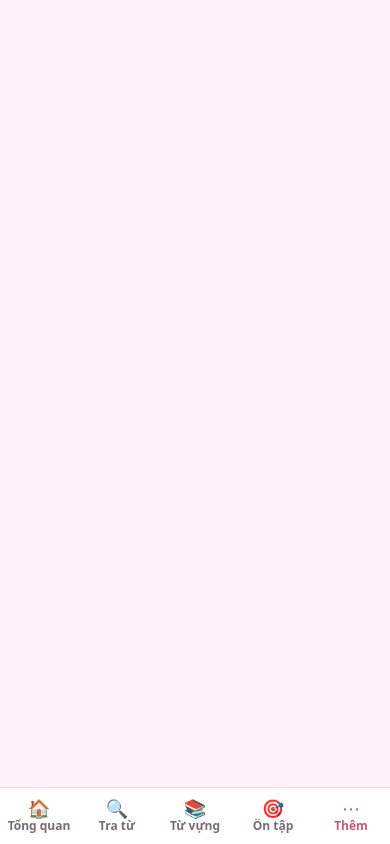
Test case: MobileTabBar › sets aria-current=page on the active sheet item only and hides its emoji from the name
Click the button "⋯ Thêm".
click(351, 816)  # box [312,788,389,843]
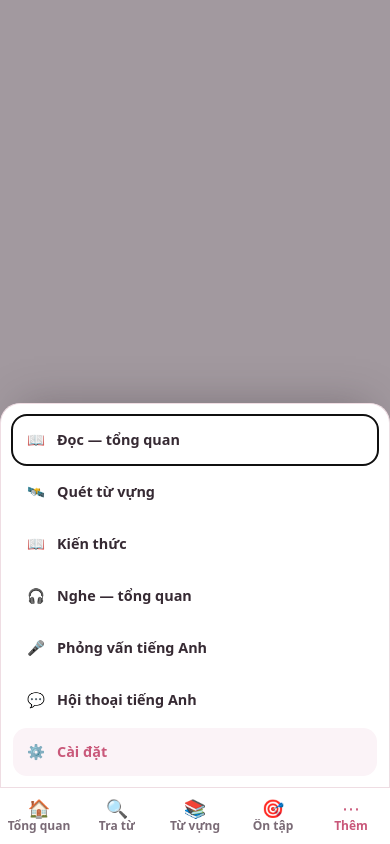
Expected: the text "⚙️" is shown, [27,741,45,763]
